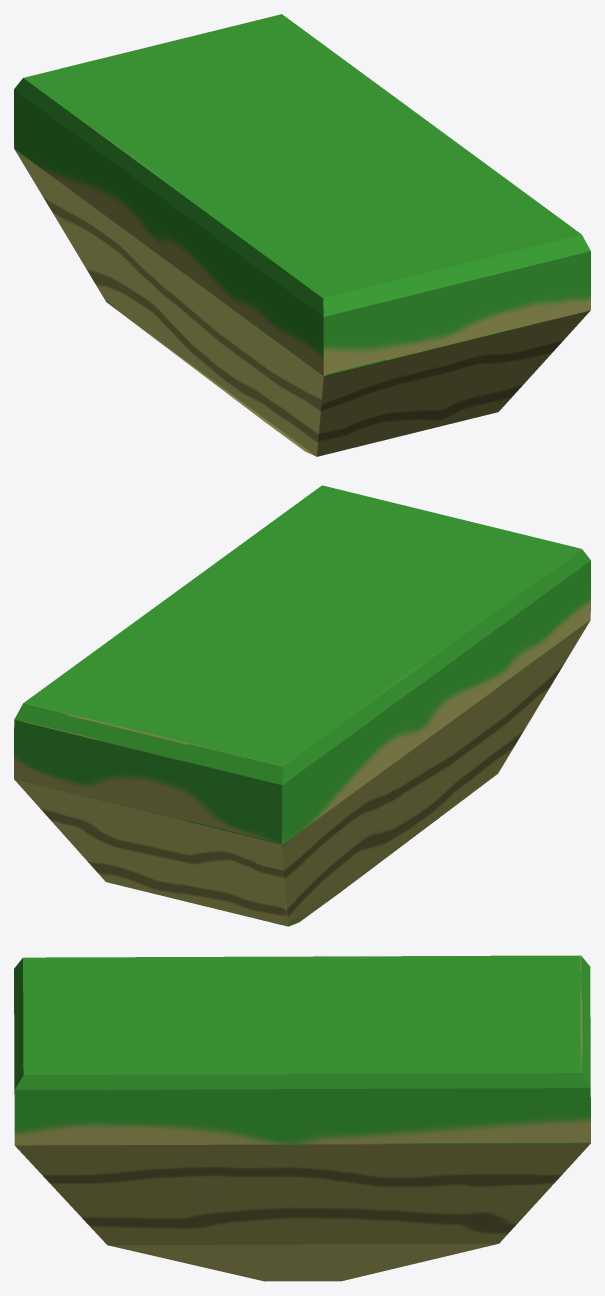
File: plat1x2.obj
The picture shows the model from 3 angles, top to bottom: view 1: azimuth 30°, elevation 25°; view 2: azimuth 150°, elevation 25°; view 3: azimuth 270°, elevation 25°; orthographic projection. The views are drawn at different scales.
Parts seen in each view (by area): view 1: Cube; view 2: Cube; view 3: Cube.
Boxes of the visible parts, <box> form: Cube: <box>14,14,590,456</box>; Cube: <box>14,485,590,926</box>; Cube: <box>14,955,590,1281</box>.
Size of the model in its own units: 2.01 by 1.98 by 4.
